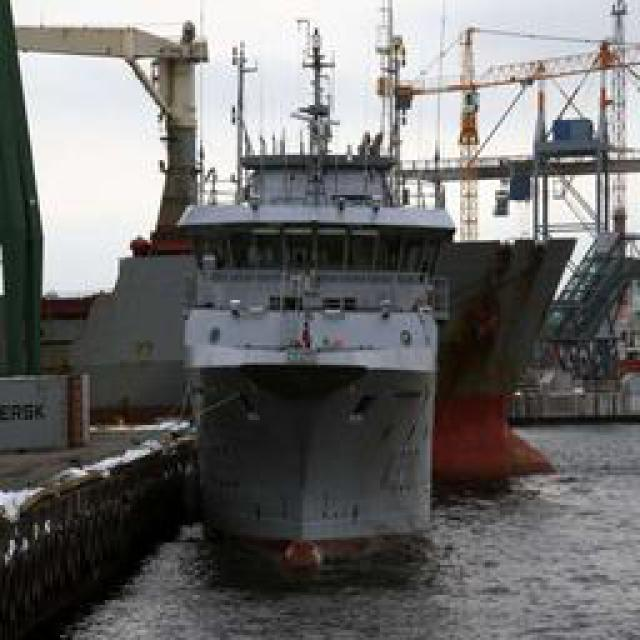Ship: (174, 1, 454, 581)
